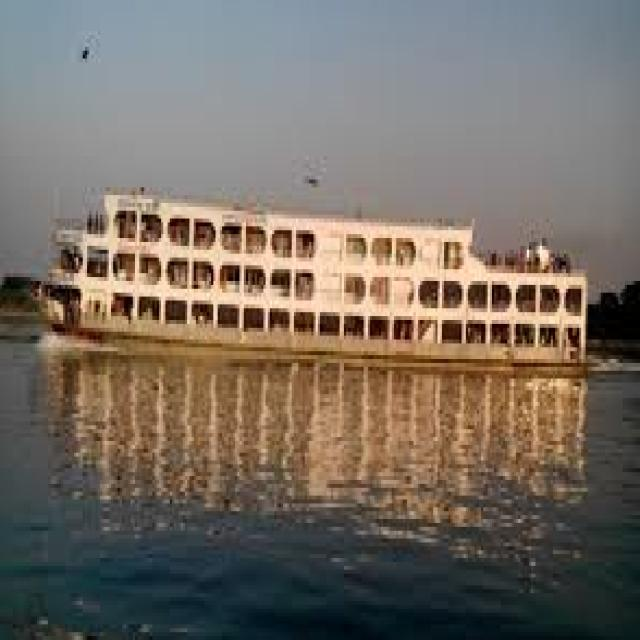passenger ship: (36, 131, 596, 396)
